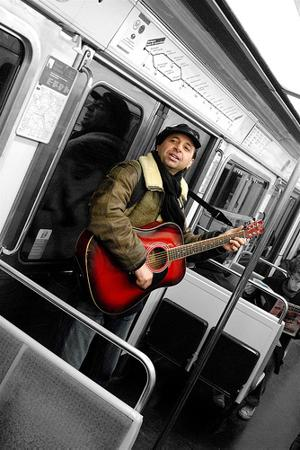person: (62, 123, 247, 390)
